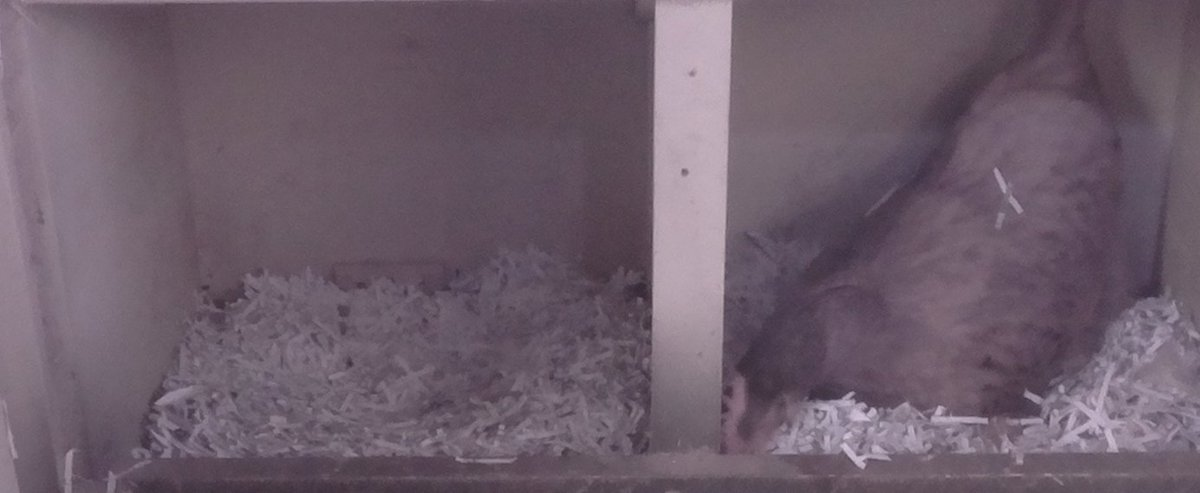hen: (716, 8, 1124, 457)
